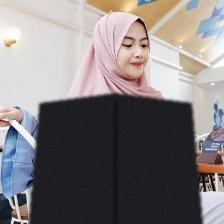Cadar_Niqab: (29, 7, 202, 224)
